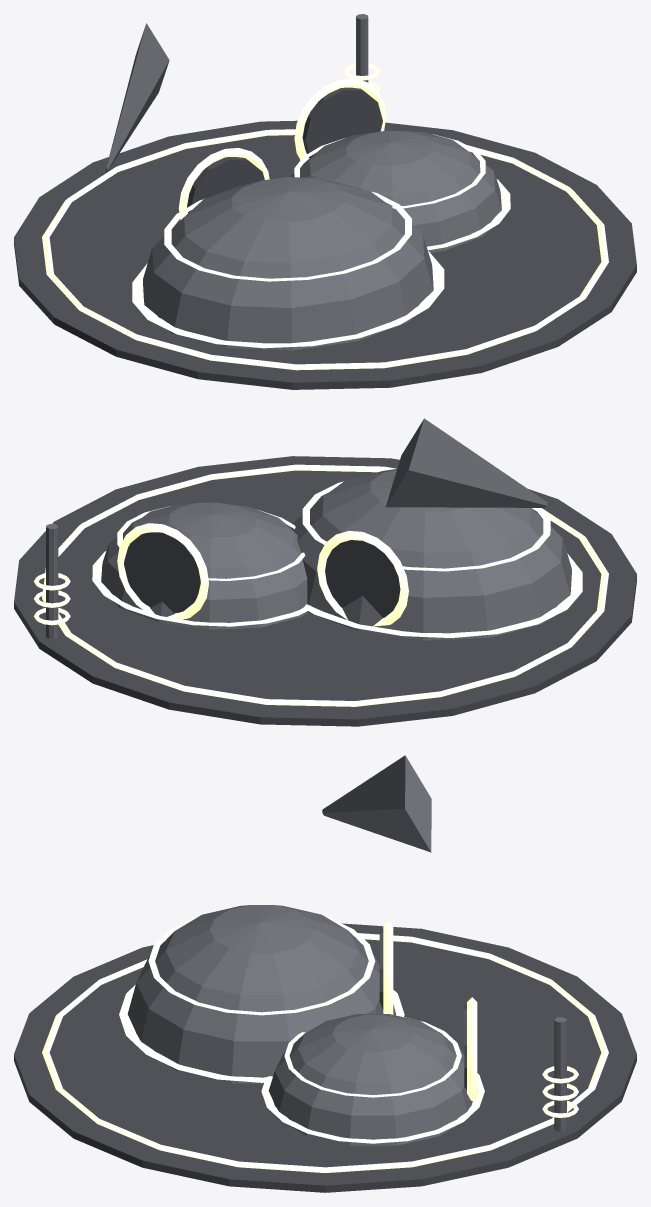
Rendered from zone_low_4_t3.glb.
3 renders of one model, top to bottom at view 1: azimuth 30°, elevation 25°; view 2: azimuth 150°, elevation 25°; view 3: azimuth 270°, elevation 25°, orthographic.
Visible parts, largest first — view 1: zone_low_4_t3, detail; view 2: zone_low_4_t3, detail; view 3: zone_low_4_t3, detail.
Part boxes in pixels (left/top/right/bottom): zone_low_4_t3: left=14, top=23, right=636, bottom=389; detail: left=42, top=14, right=608, bottom=370; zone_low_4_t3: left=14, top=418, right=636, bottom=726; detail: left=34, top=464, right=608, bottom=706; zone_low_4_t3: left=14, top=755, right=636, bottom=1192; detail: left=42, top=916, right=608, bottom=1172.
Size of the model in its own units: 19.6 by 9.31 by 19.6.
